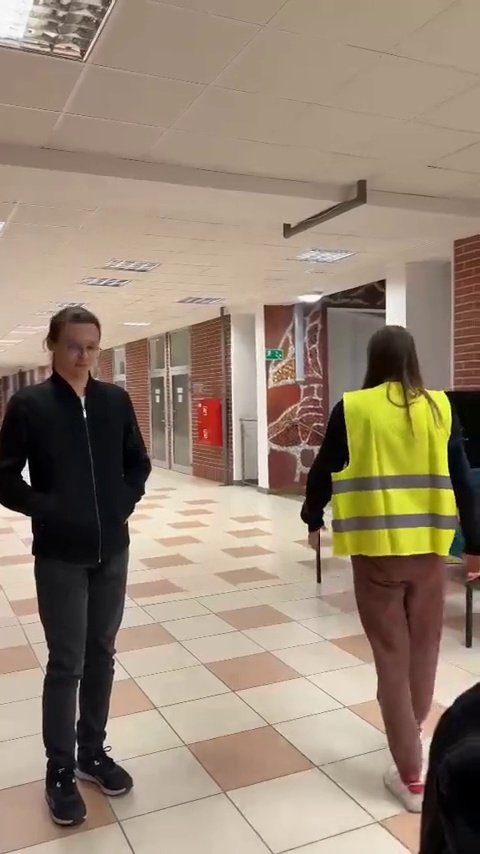no vest: (3, 279, 178, 851)
vest: (313, 320, 474, 812)
